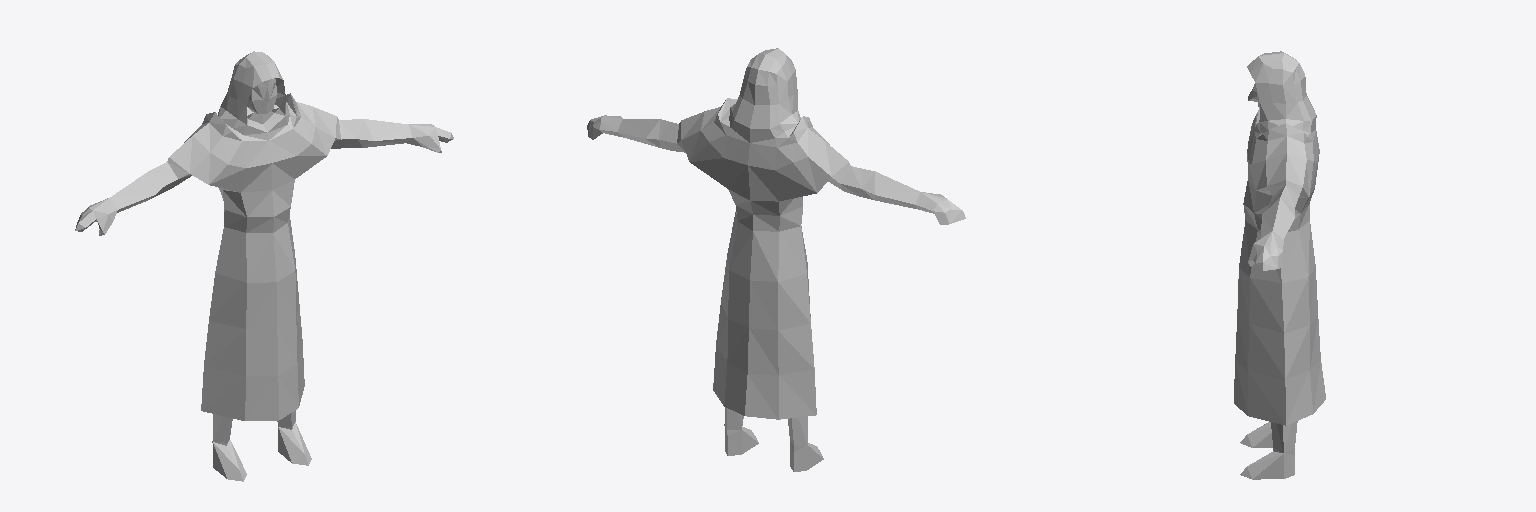
The model's file is monk_no_sword.obj.
3 views of the same model, side by side, from view 1: azimuth 30°, elevation 25°; view 2: azimuth 150°, elevation 25°; view 3: azimuth 270°, elevation 25° (orthographic).
Parts seen in each view (by area): view 1: Object_2; view 2: Object_2; view 3: Object_2.
Part boxes in pixels (x1,y1,x2,y2): Object_2: (75,51,453,481); Object_2: (587,48,965,471); Object_2: (1234,51,1325,479).
Size of the model in its own units: 43.02 by 44.04 by 9.13.